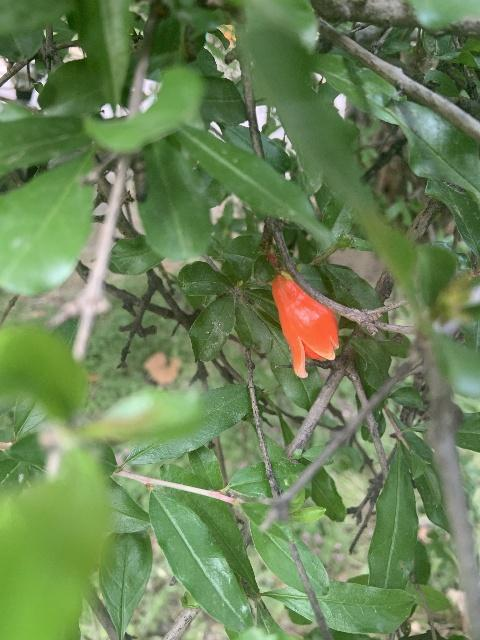flower: (270, 273, 339, 377)
